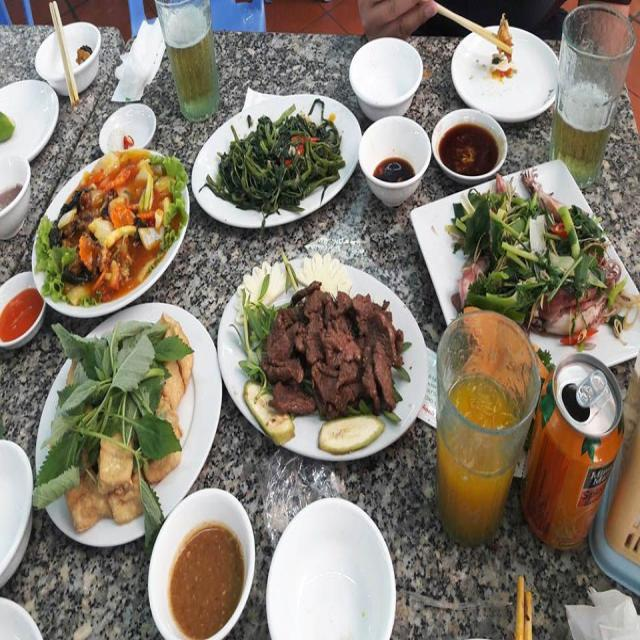bia: (555, 14, 623, 185)
dau hu chien: (27, 307, 220, 521)
de nuong: (229, 244, 417, 446)
muc hap: (428, 150, 640, 356)
nuoc cam ep: (426, 319, 624, 552)
rau muong xao: (207, 100, 350, 218)
suon xao chua ngot: (43, 147, 179, 301)
xi dau: (364, 124, 422, 197)
